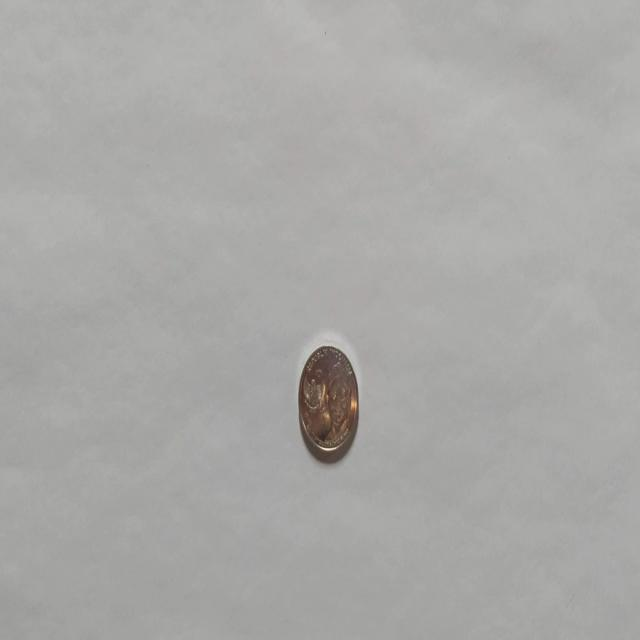dua ratus rupiah: (297, 343, 359, 460)
